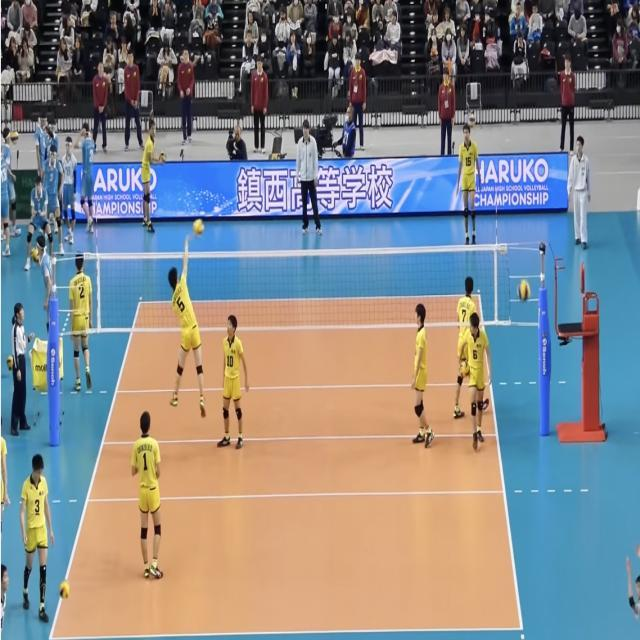spike: (166, 213, 214, 420)
